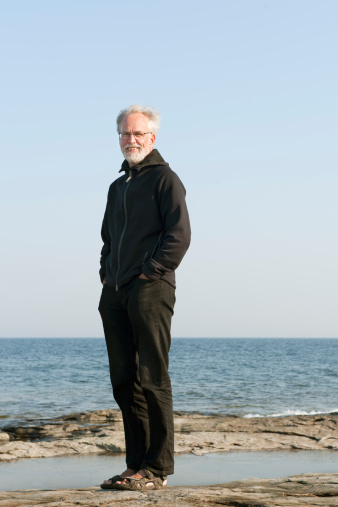em pe: (77, 87, 189, 478)
